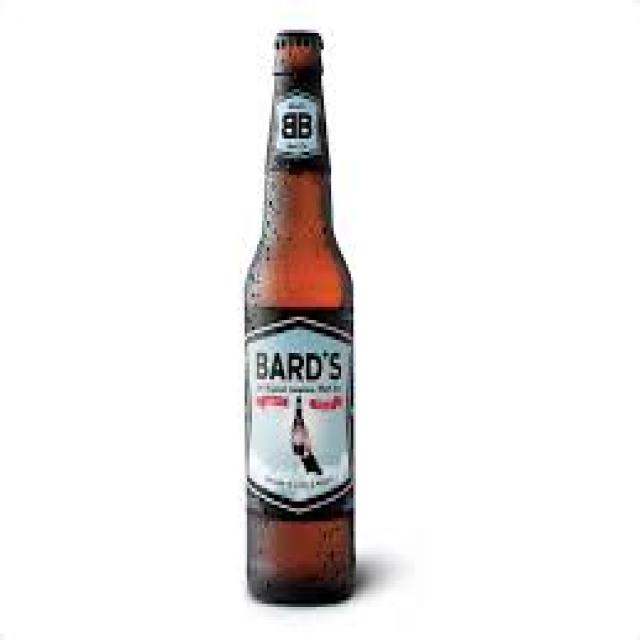Anorganik: (242, 29, 354, 604), (272, 26, 321, 43)
